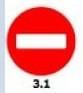road_sign: (7, 7, 74, 74)
